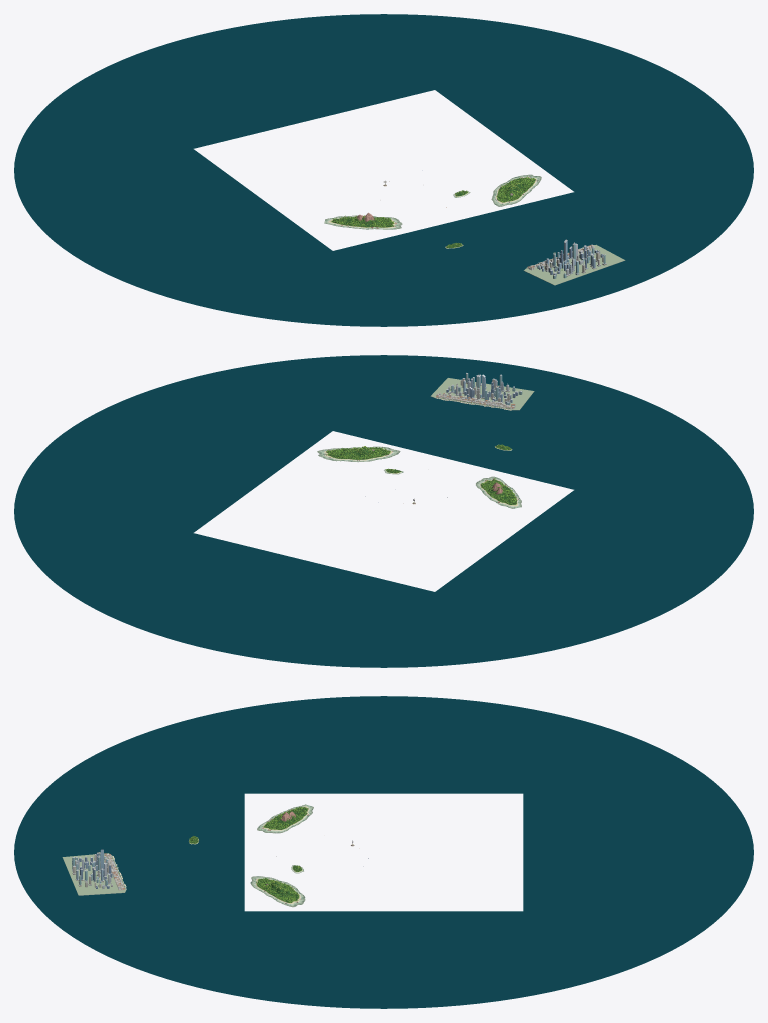
Rendered from aiquiz_stadium_backdrop.glb.
3 views of the same model, one above another, from view 1: azimuth 30°, elevation 25°; view 2: azimuth 150°, elevation 25°; view 3: azimuth 270°, elevation 25° (orthographic).
Visible parts, largest first — view 1: AQS_BG_FarSea, AQS_BG_City, AQS_BG_IslandLush, AQS_BG_IslandRocky; view 2: AQS_BG_FarSea, AQS_BG_City, AQS_BG_IslandLush, AQS_BG_IslandRocky; view 3: AQS_BG_FarSea, AQS_BG_City, AQS_BG_IslandLush, AQS_BG_IslandRocky.
Boxes of the visible parts, x1=… form: AQS_BG_FarSea: x1=14, y1=14, x2=753, y2=326; AQS_BG_City: x1=523, y1=239, x2=625, y2=285; AQS_BG_IslandLush: x1=491, y1=174, x2=541, y2=206; AQS_BG_IslandRocky: x1=324, y1=212, x2=402, y2=229; AQS_BG_FarSea: x1=14, y1=355, x2=753, y2=667; AQS_BG_City: x1=430, y1=373, x2=534, y2=410; AQS_BG_IslandLush: x1=317, y1=446, x2=400, y2=462; AQS_BG_IslandRocky: x1=476, y1=476, x2=521, y2=508; AQS_BG_FarSea: x1=14, y1=696, x2=753, y2=1008; AQS_BG_City: x1=62, y1=849, x2=126, y2=895; AQS_BG_IslandLush: x1=250, y1=876, x2=305, y2=907; AQS_BG_IslandRocky: x1=257, y1=804, x2=313, y2=833.
Size of the model in its own units: 10600 by 379 by 10600.
11 materials, 7 textured.
